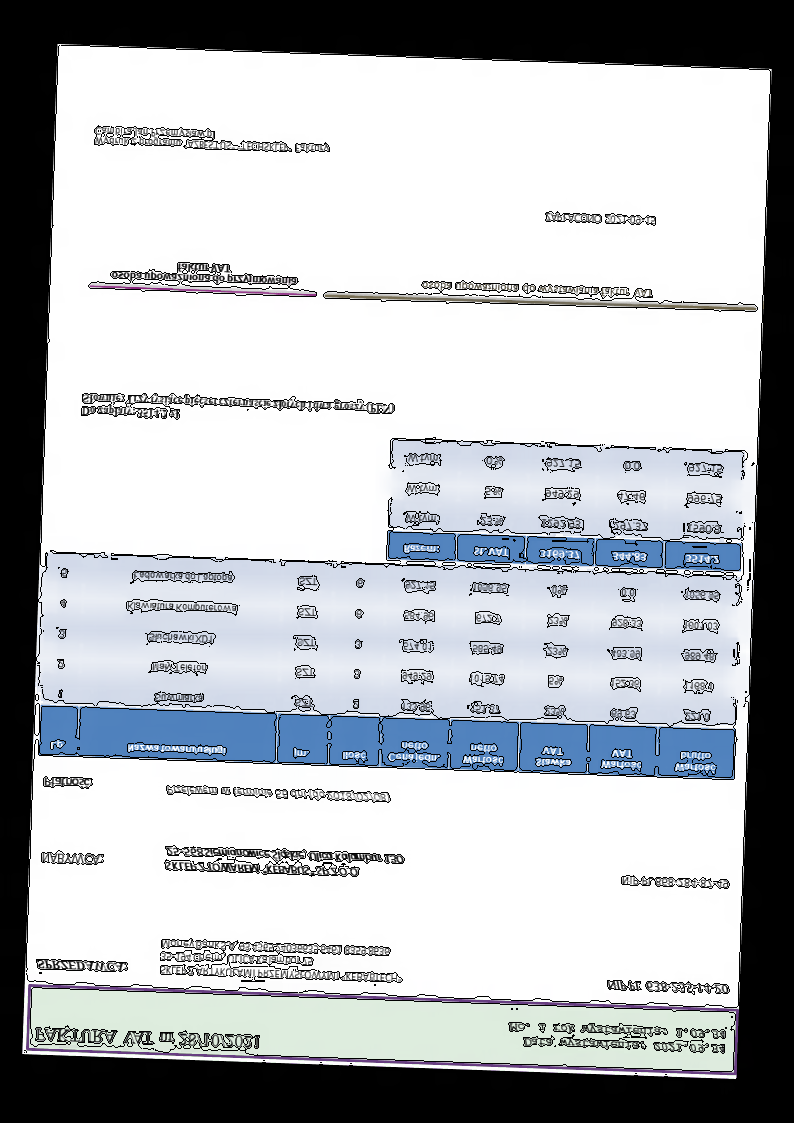Table: (37, 551, 742, 781), (385, 437, 747, 573)
TextBox: (79, 390, 395, 429), (156, 936, 405, 985), (162, 844, 405, 880), (505, 1019, 727, 1056), (92, 124, 332, 156), (33, 1025, 263, 1052), (109, 258, 300, 290), (419, 278, 654, 302), (165, 782, 391, 806), (604, 977, 730, 997), (542, 210, 656, 228), (620, 874, 730, 891), (34, 957, 129, 974), (39, 850, 104, 867), (41, 775, 95, 791)
